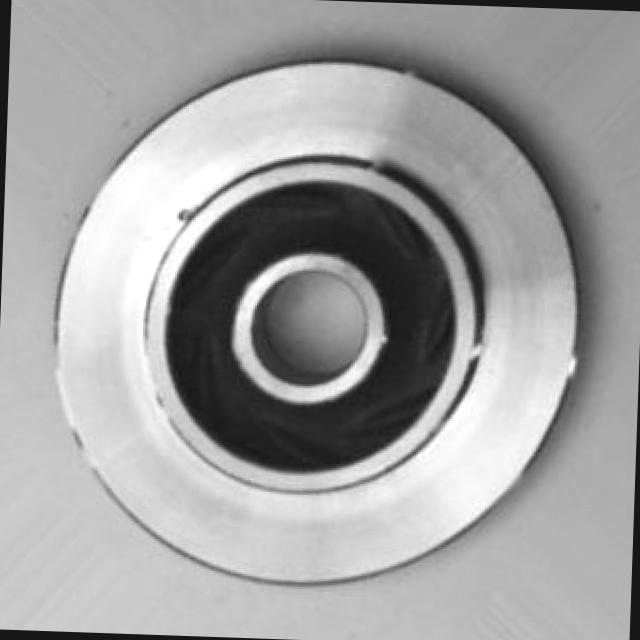Defect: (171, 203, 196, 225)
